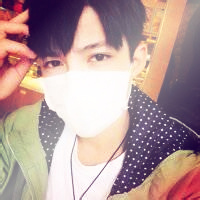face_mask: (35, 8, 129, 133)
